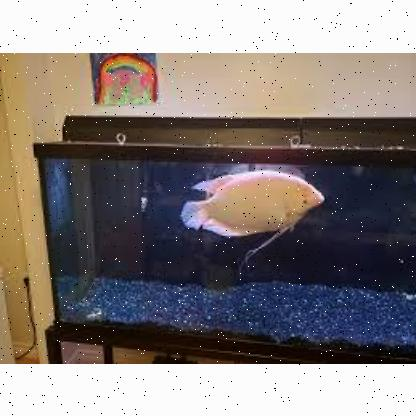gurame: (183, 168, 329, 242)
